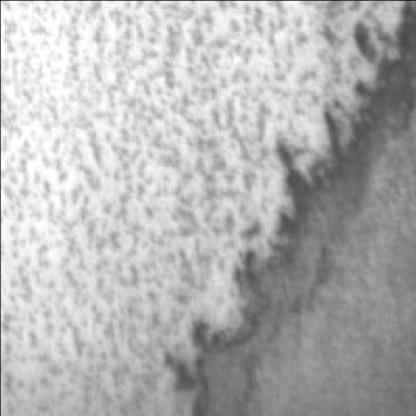patches: (189, 8, 408, 416)
pitted_surface: (0, 6, 339, 395)
